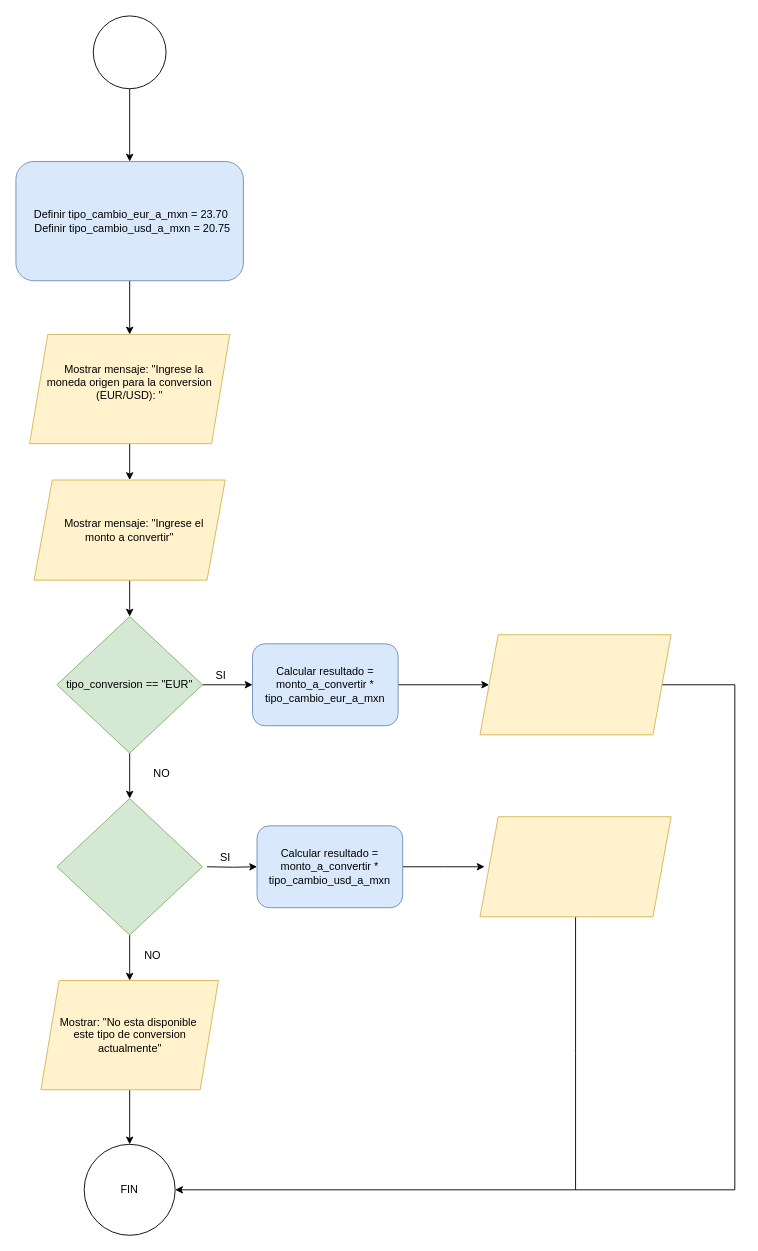
This 758x1251 diagram has some shape labels left out. The shapes that lost their labels are listed below. From the top down, each one's centre as x and y in pixels, then its label:
[129,52]: Inicio
[575,684]: Mostrar "El resultado de la conversion de EUR a MXN es: ", resultado
[129,866]: tipo_conversion == "USD"
[575,866]: Mostrar "El resultado de la conversion de USD a MXN es: ", resultado
